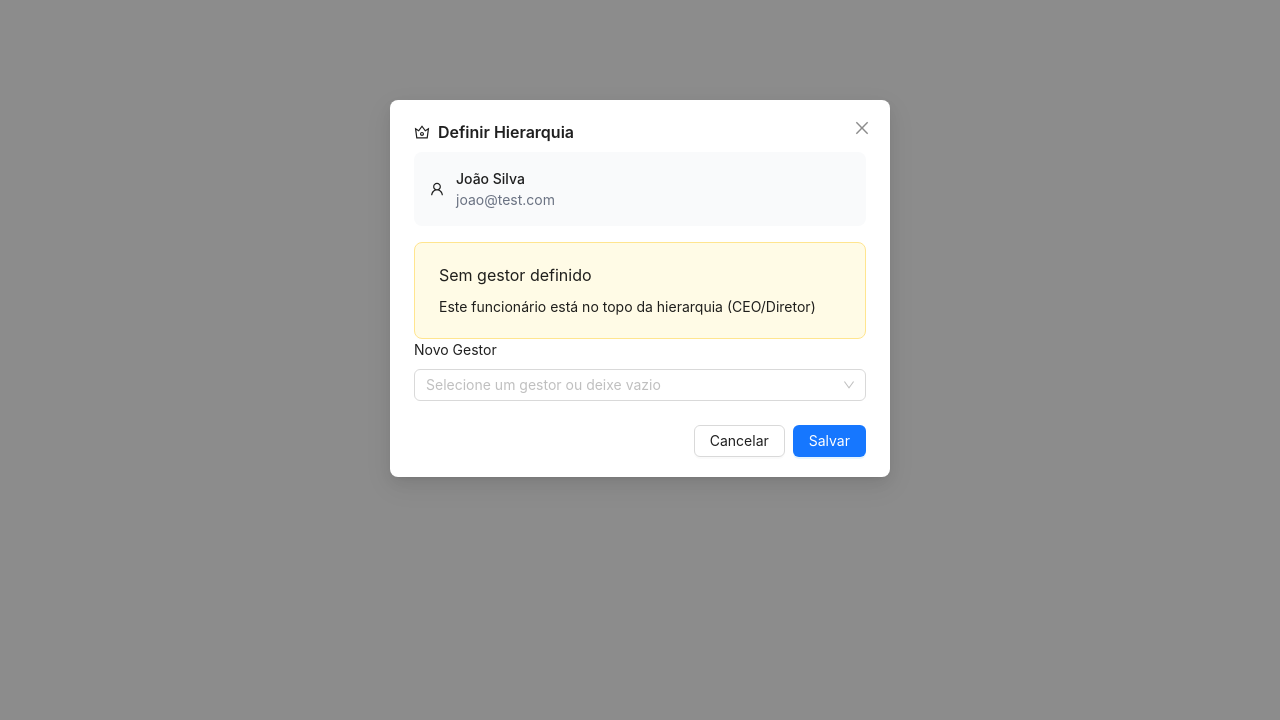
Test: HierarchyModal › should not show the employee as manager option for themselves
Press the mouse on the dropdown: [631, 385] box [426, 370, 836, 400]
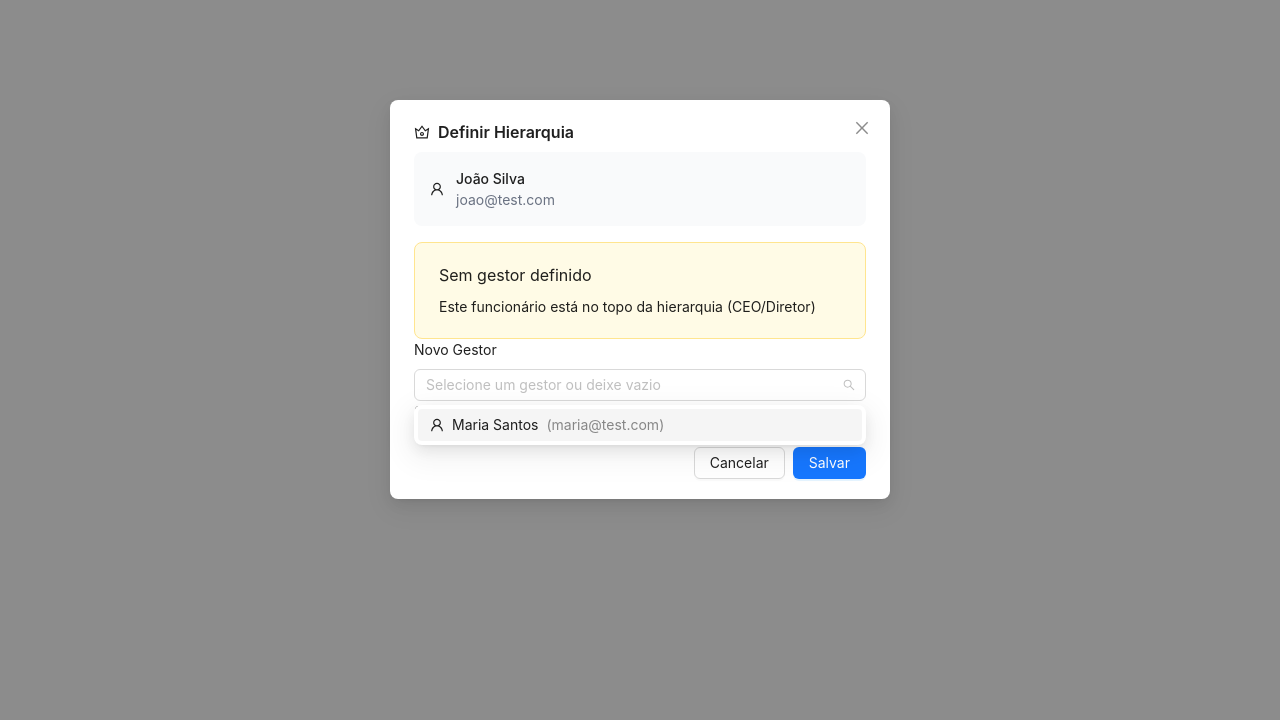
Expected: the element showing "Maria Santos (maria@test.com)" is shown, [414, 405, 866, 445]
